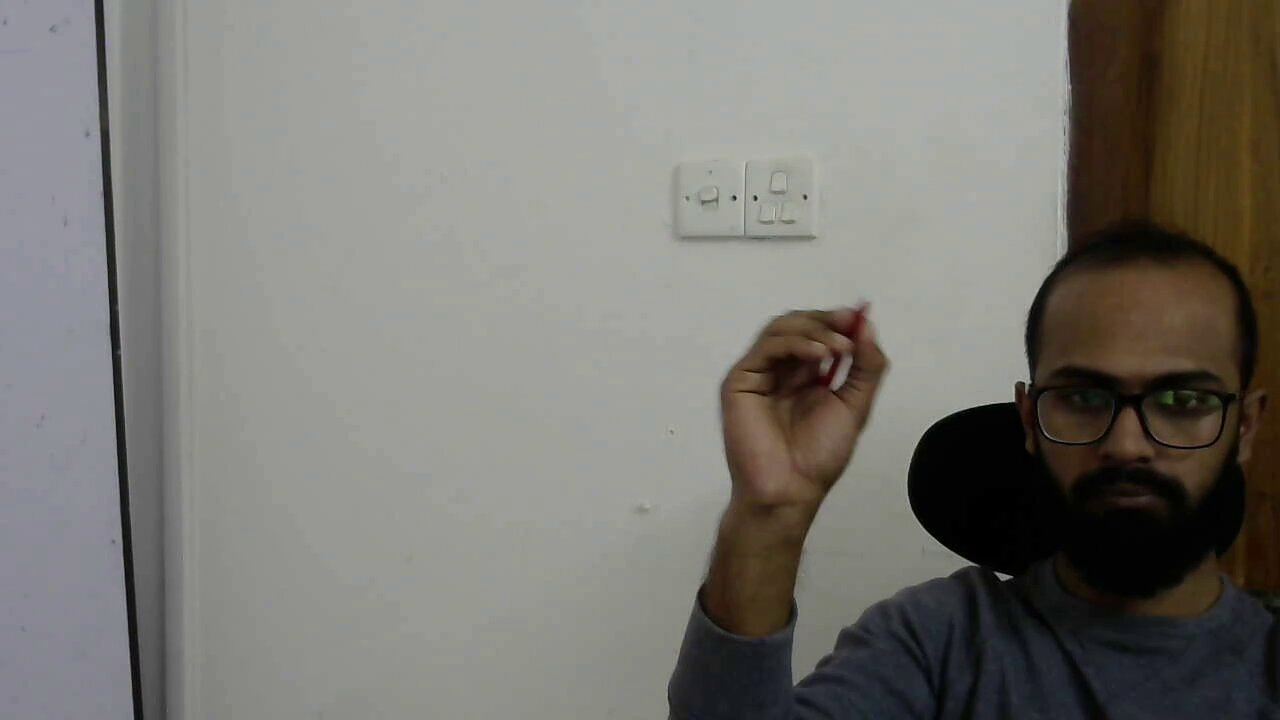pointer: (742, 287, 888, 436)
